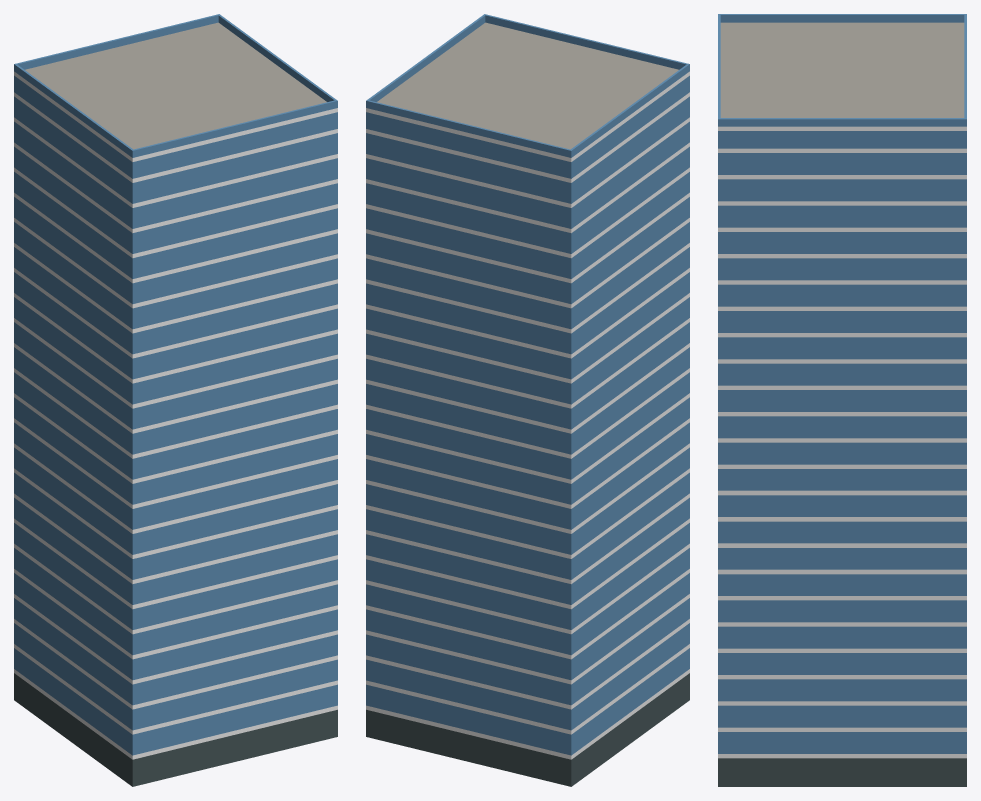
Rendered from far.fbx.
The picture shows the model from 3 angles, left to right: view 1: azimuth 30°, elevation 25°; view 2: azimuth 150°, elevation 25°; view 3: azimuth 270°, elevation 25°; orthographic projection. The views are drawn at different scales.
Parts seen in each view (by area): view 1: a2012/800/far; view 2: a2012/800/far; view 3: a2012/800/far.
Part boxes in pixels (x1=…): a2012/800/far: x1=14, y1=14, x2=337, y2=786; a2012/800/far: x1=366, y1=14, x2=689, y2=786; a2012/800/far: x1=718, y1=14, x2=966, y2=786.
Size of the model in its own units: 30 by 88.8 by 30.
